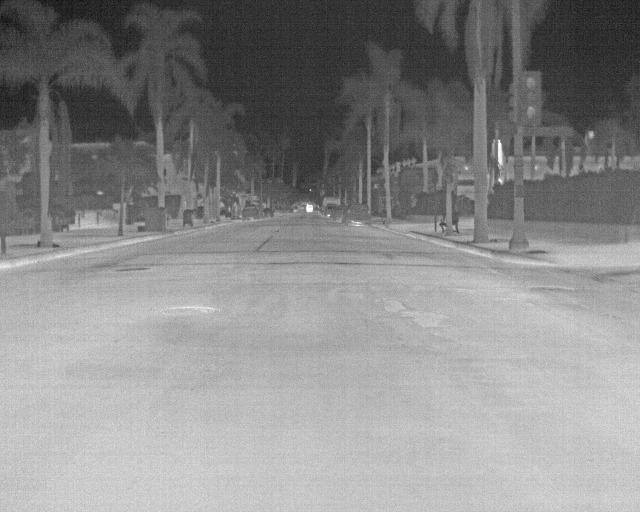car: (342, 204, 371, 227), (241, 206, 260, 221), (322, 197, 338, 212), (330, 205, 344, 220), (251, 205, 266, 219), (324, 204, 337, 216), (263, 208, 274, 218), (282, 208, 293, 215), (306, 205, 313, 212), (292, 205, 299, 211)
light: (522, 74, 538, 122), (15, 134, 32, 170), (0, 133, 13, 172), (508, 84, 517, 123)
sign: (523, 126, 573, 136), (496, 126, 517, 137), (515, 184, 525, 198)
